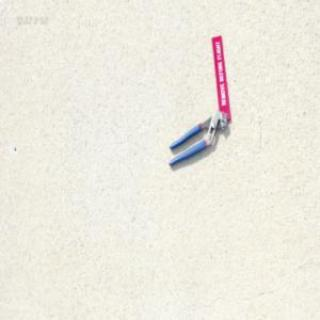LuggageTagtrack_idkeyframe: (210, 34, 230, 121)
Pliertrack_idkeyframe: (166, 110, 226, 167)
